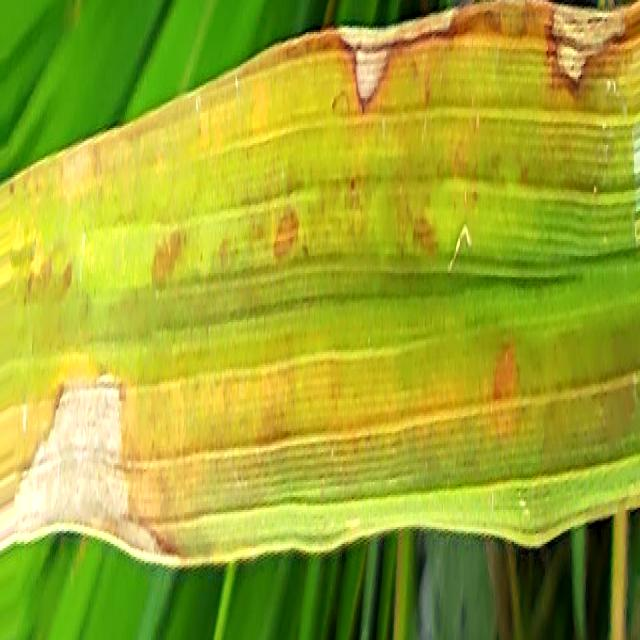LEAF BLAST: (0, 379, 185, 562), (348, 25, 455, 105), (546, 4, 626, 91)
